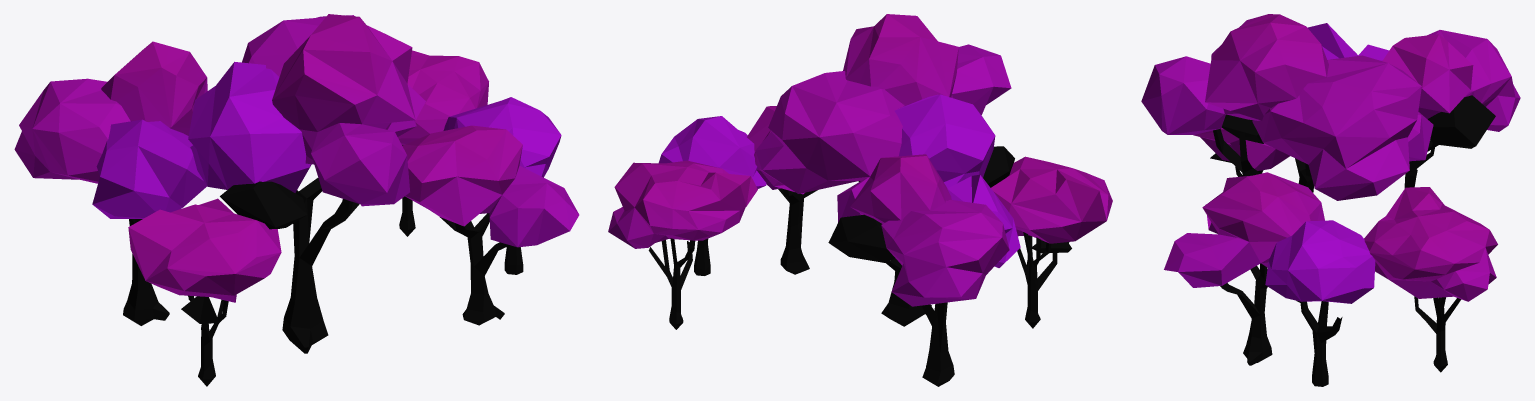
File: SM_Env_Tree_Cluster_03.glb
The picture shows the model from 3 angles, left to right: view 1: azimuth 30°, elevation 25°; view 2: azimuth 150°, elevation 25°; view 3: azimuth 270°, elevation 25°; orthographic projection. The views are drawn at different scales.
Parts seen in each view (by area): view 1: SM_Env_Tree_Cluster_03; view 2: SM_Env_Tree_Cluster_03; view 3: SM_Env_Tree_Cluster_03.
Boxes of the visible parts, x1,y1,x2,y2 form: SM_Env_Tree_Cluster_03: (14,14,579,386); SM_Env_Tree_Cluster_03: (608,14,1112,386); SM_Env_Tree_Cluster_03: (1141,14,1520,386).
Size of the model in its own units: 17.01 by 11.71 by 13.57.
